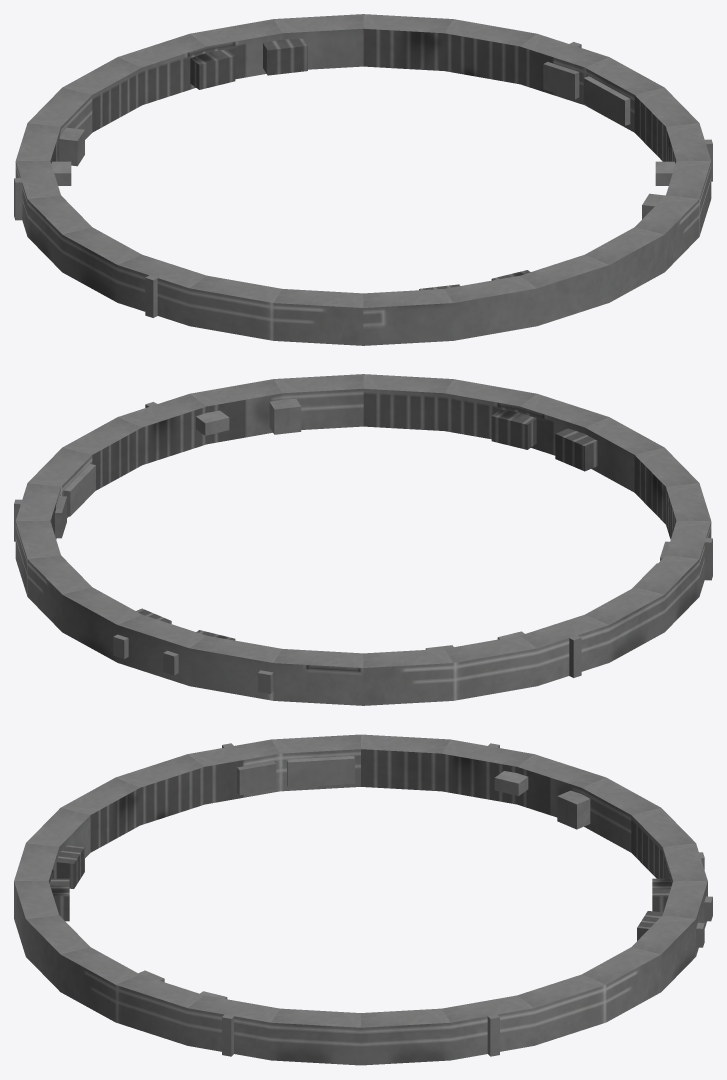
The model's file is control core naked.obj.
The picture shows the model from 3 angles, top to bottom: view 1: azimuth 30°, elevation 25°; view 2: azimuth 150°, elevation 25°; view 3: azimuth 270°, elevation 25°; orthographic projection.
Visible parts, largest first — view 1: 1; view 2: 1; view 3: 1.
Part boxes in pixels (left/top/right/bottom): 1: left=14, top=14, right=712, bottom=345; 1: left=14, top=374, right=712, bottom=705; 1: left=14, top=734, right=712, bottom=1065.
Size of the model in its own units: 2.5 by 0.15 by 2.52.
